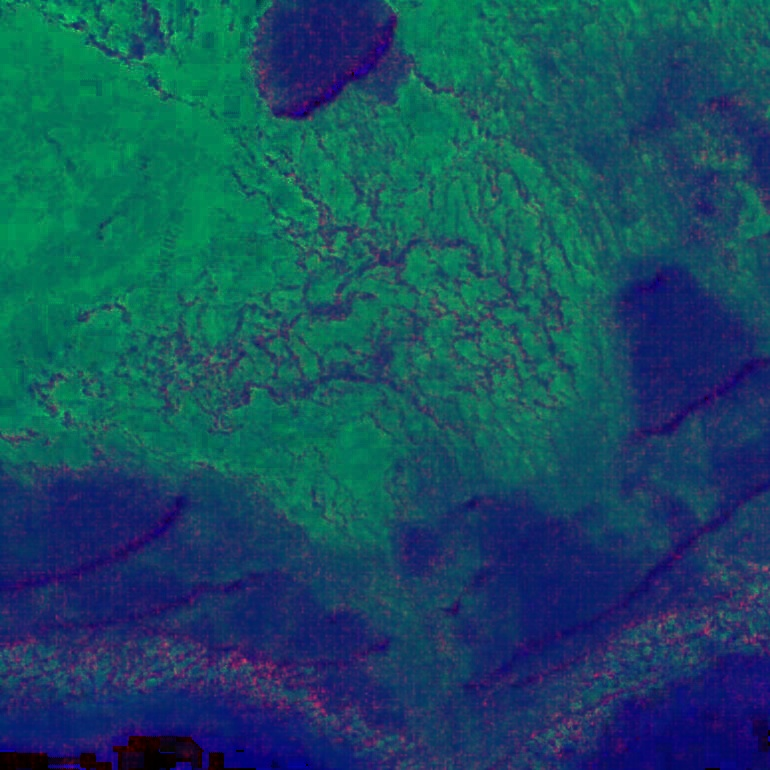rip_current: (54, 321, 500, 585)
